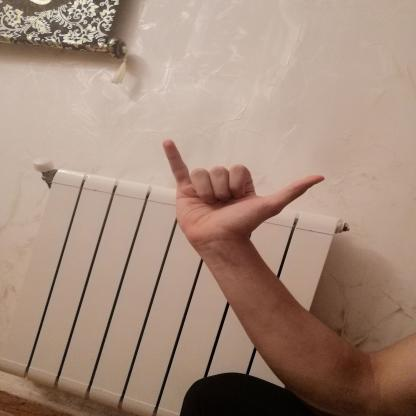YA: (150, 130, 338, 256)
